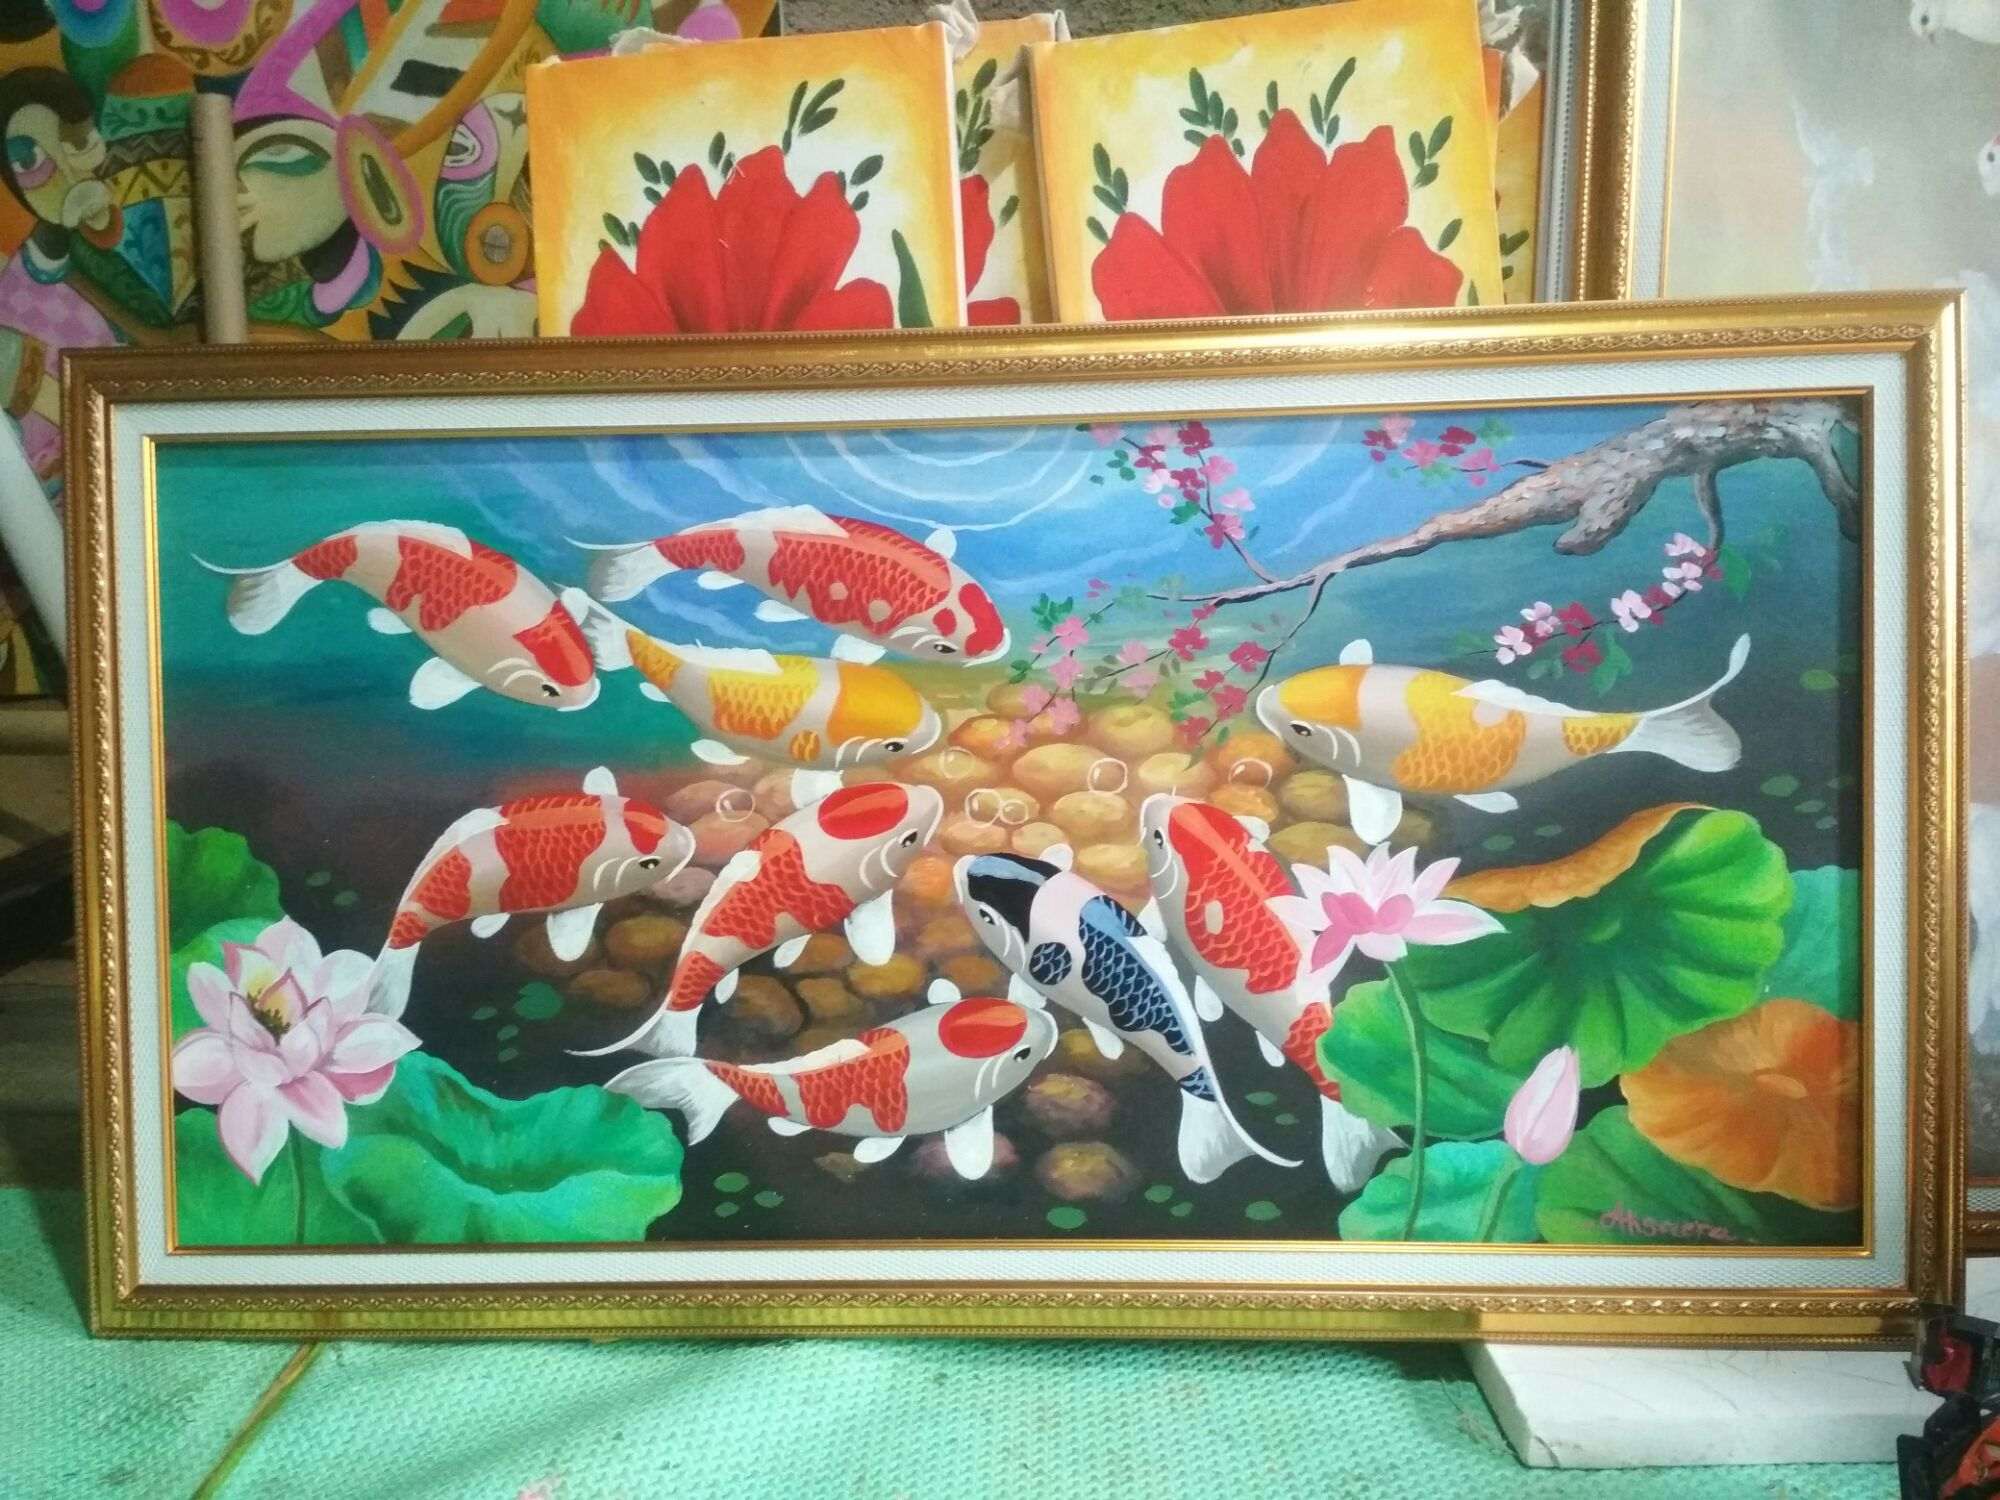lukisan: (61, 332, 1959, 1357)
